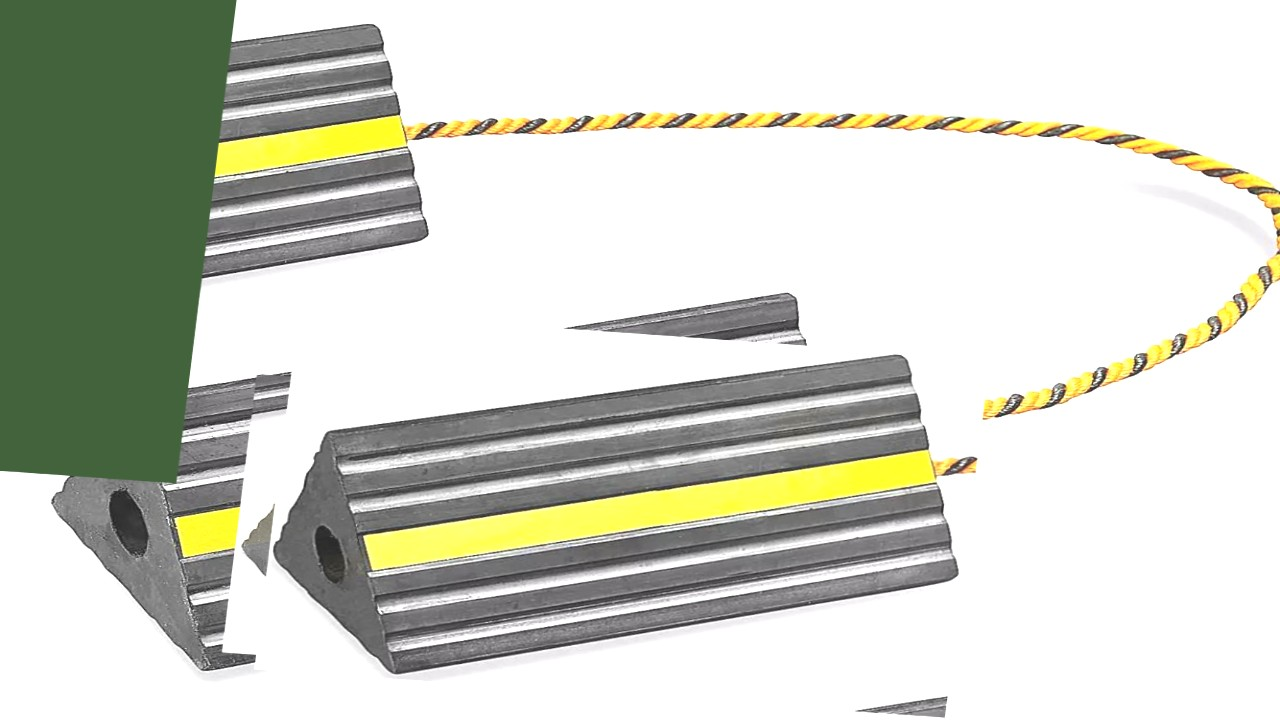chock: (22, 240, 874, 720), (255, 310, 990, 718), (222, 374, 781, 689), (0, 0, 460, 373)
